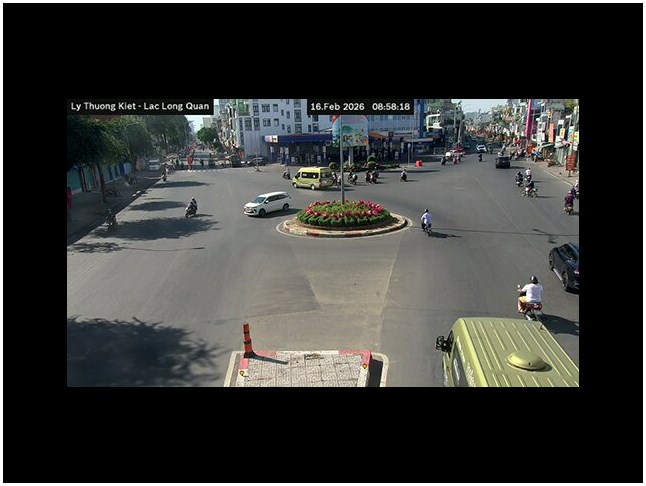car: (549, 241, 579, 293), (243, 190, 292, 217), (291, 166, 336, 190), (496, 157, 511, 169)
motorbike: (518, 296, 543, 321)
truck: (223, 321, 390, 385)
